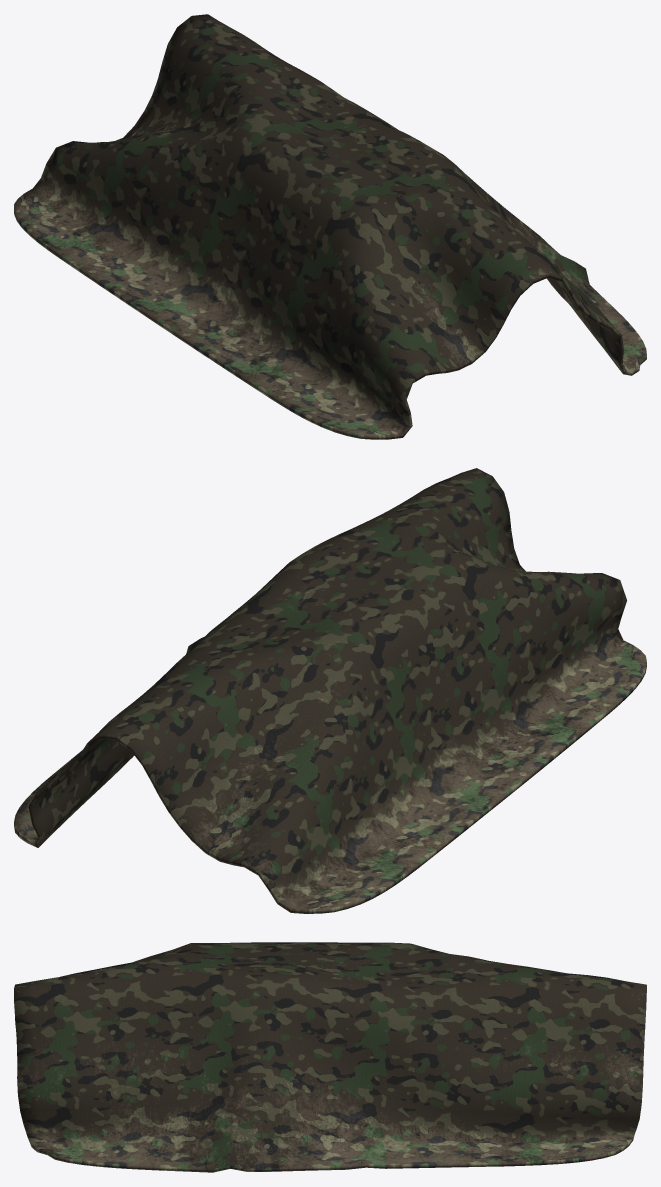
Rendered from Carpets.fbx.
3 views of the same model, one above another, from view 1: azimuth 30°, elevation 25°; view 2: azimuth 150°, elevation 25°; view 3: azimuth 270°, elevation 25° (orthographic). The views are drawn at different scales.
Visible parts, largest first — view 1: Plane.001; view 2: Plane.001; view 3: Plane.001.
Part boxes in pixels (x1,y1,x2,y2): Plane.001: [14, 14, 646, 439]; Plane.001: [14, 468, 646, 913]; Plane.001: [14, 942, 646, 1172].
Size of the model in its own units: 7.52 by 12.28 by 2.94.
1 material, 1 textured.
